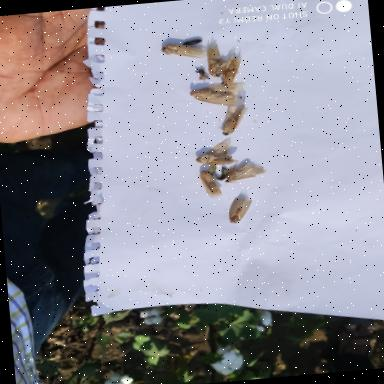abw: (185, 80, 249, 107), (191, 138, 240, 168), (222, 158, 270, 187), (156, 37, 206, 63), (216, 103, 253, 137), (215, 50, 248, 88), (205, 36, 226, 80), (224, 196, 254, 226), (202, 169, 222, 200)
